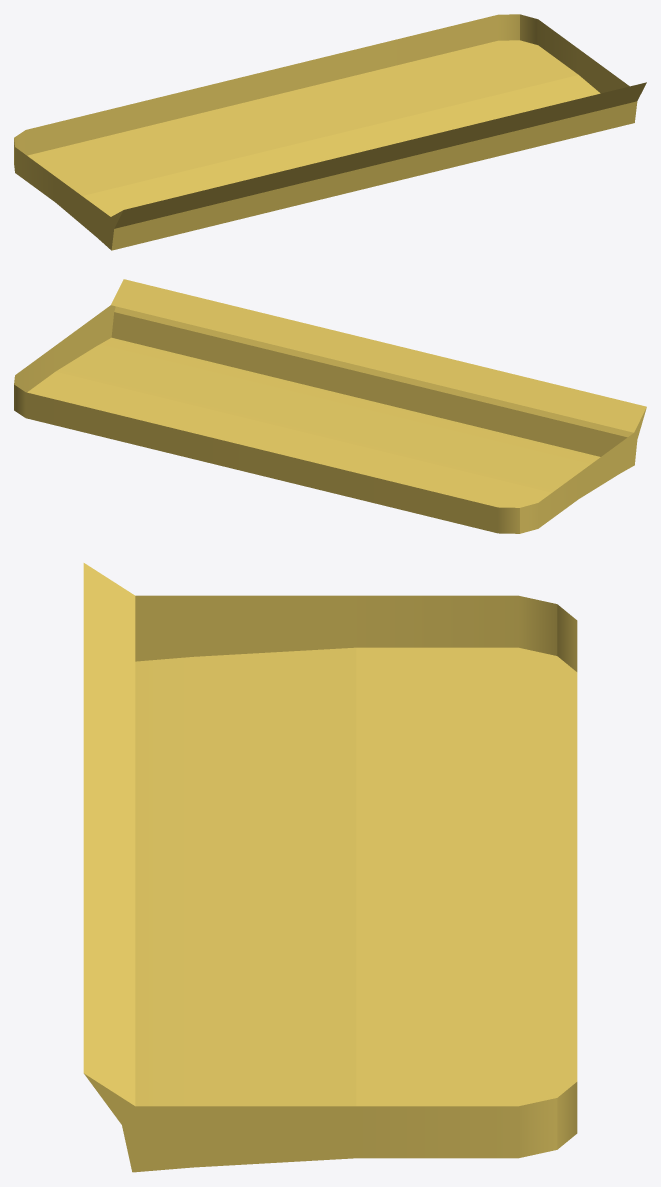
File: HingeTop.fbx
3 renders of one model, top to bottom at view 1: azimuth 30°, elevation 25°; view 2: azimuth 150°, elevation 25°; view 3: azimuth 270°, elevation 25°, orthographic. The views are drawn at different scales.
Visible parts, largest first — view 1: HingeTop; view 2: HingeTop; view 3: HingeTop.
Part boxes in pixels (x1,y1,x2,y2): HingeTop: (14,14,646,250); HingeTop: (14,279,646,533); HingeTop: (83,563,577,1172).
Bounding box in the file's own units: 205 × 19.09 × 83.79.
